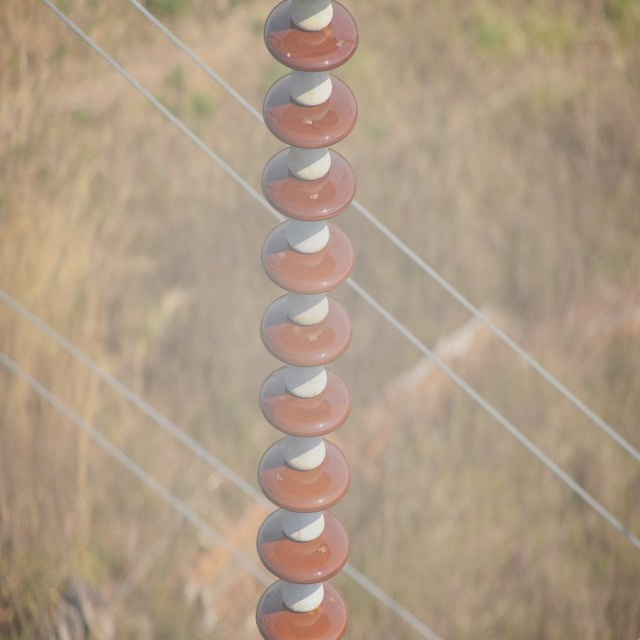insulator: (255, 4, 360, 640)
